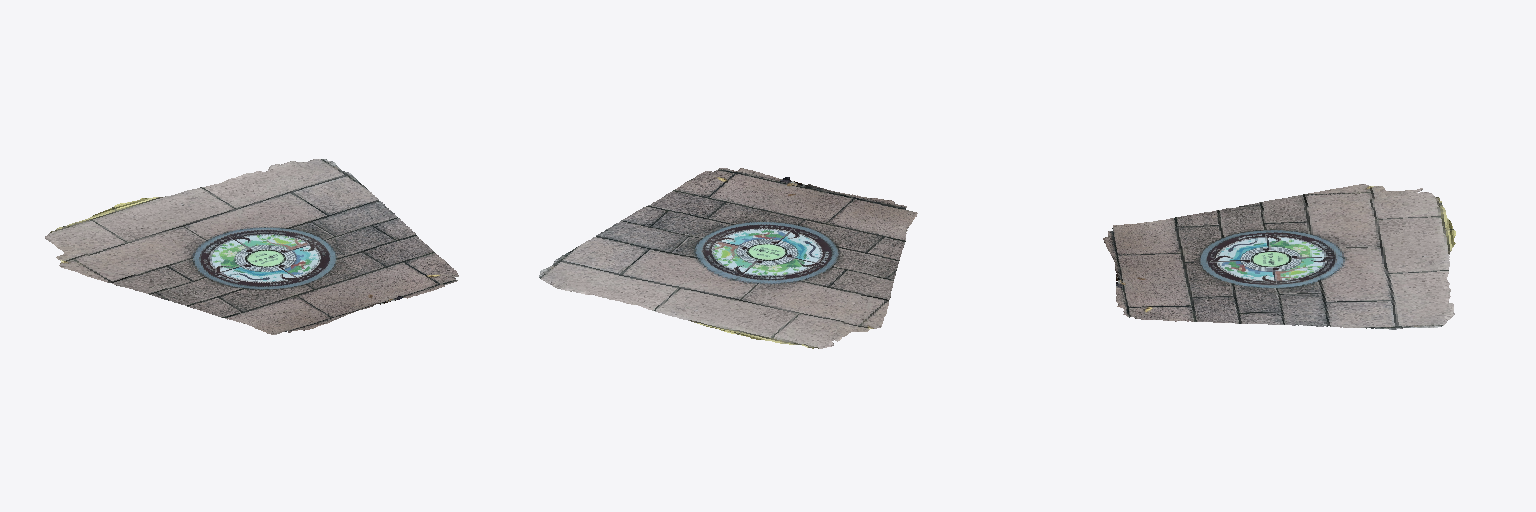
3 views of the same model, side by side, from view 1: azimuth 30°, elevation 25°; view 2: azimuth 150°, elevation 25°; view 3: azimuth 270°, elevation 25° (orthographic).
Parts seen in each view (by area): view 1: mesh; view 2: mesh; view 3: mesh.
Boxes of the visible parts, box(x1,y1,x2,y2) form: mesh: box(45, 159, 458, 334); mesh: box(539, 168, 917, 348); mesh: box(1103, 184, 1455, 329).
Bounding box in the file's own units: 1.65 × 0.0431 × 1.64.
1 materials, 1 textured.